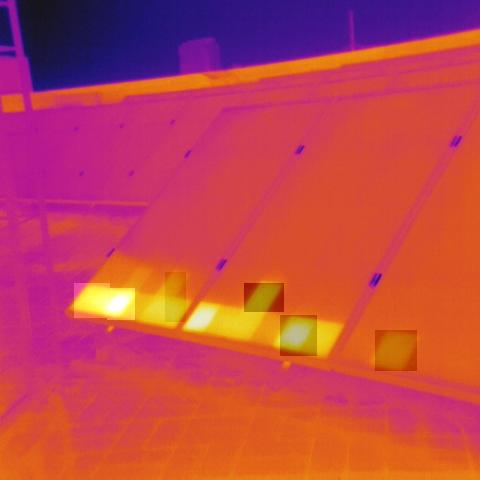fault: (375, 330, 417, 371), (280, 315, 317, 356), (183, 301, 223, 334), (74, 283, 110, 318), (244, 283, 284, 312), (165, 272, 186, 322), (107, 288, 135, 320)
